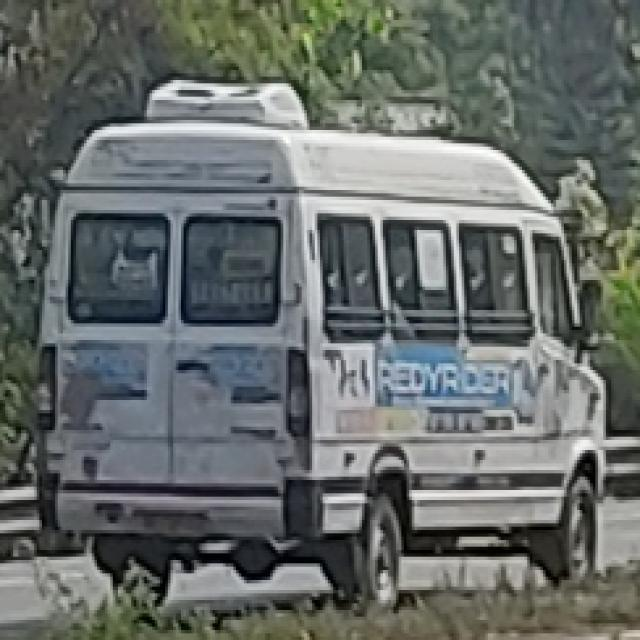van: (34, 73, 611, 607)
